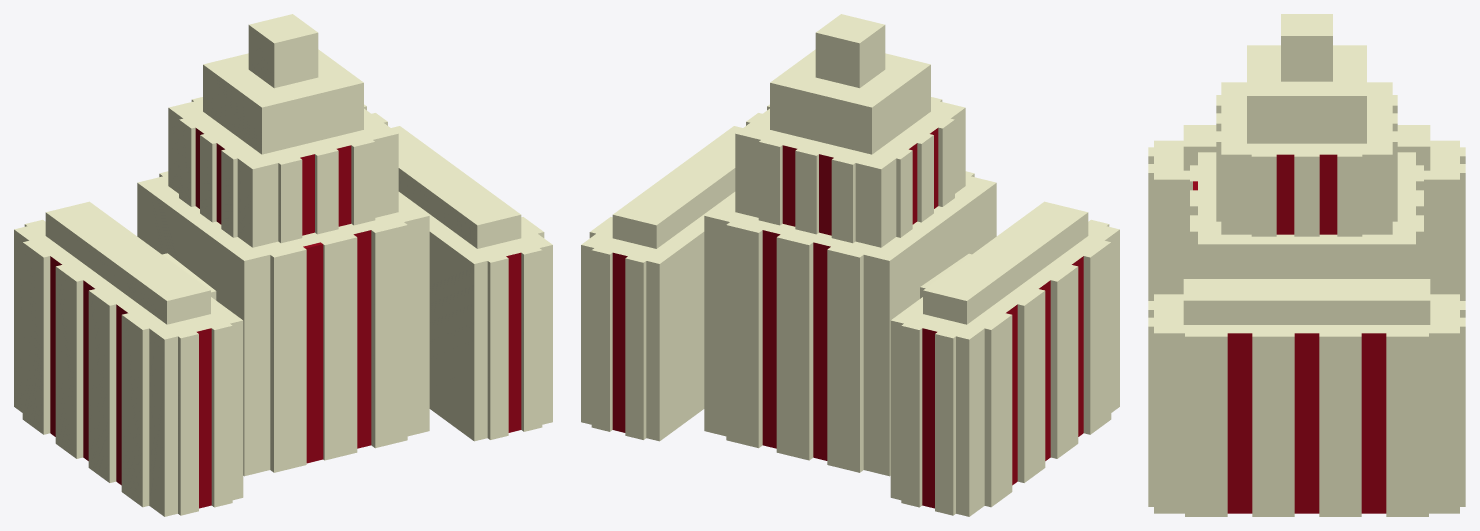
File: Stalinka.fbx
3 renders of one model, left to right at view 1: azimuth 30°, elevation 25°; view 2: azimuth 150°, elevation 25°; view 3: azimuth 270°, elevation 25°, orthographic.
Visible parts, largest first — view 1: Stalinka; view 2: Stalinka; view 3: Stalinka.
Boxes of the visible parts, x1,y1,x2,y2 form: Stalinka: (14, 14, 552, 516); Stalinka: (581, 14, 1119, 516); Stalinka: (1148, 14, 1465, 516).
Size of the model in its own units: 99.26 by 91.15 by 66.83.
